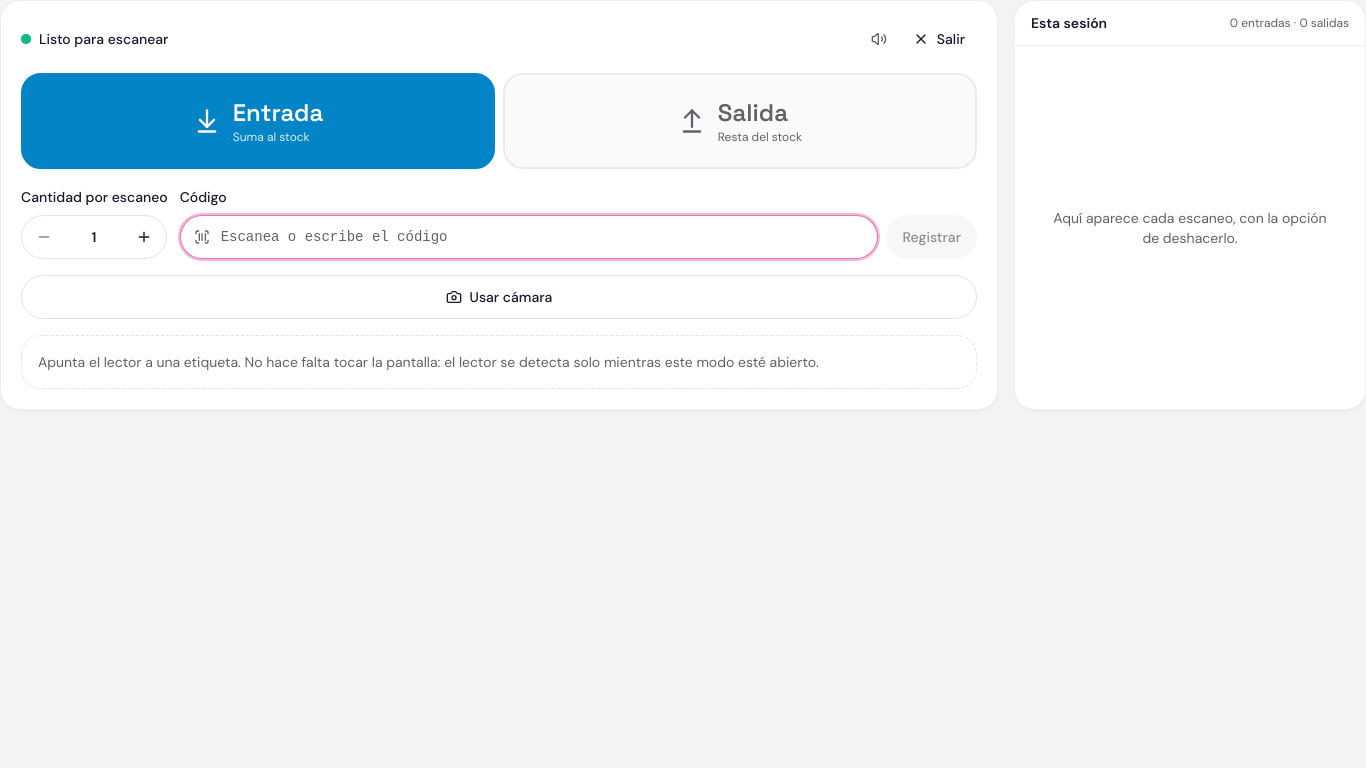
InventoryScanPanel › código desconocido → ligar a un artículo y registrar el movimiento pendiente
In the field labelled "Código": (529, 237) [180,215,878,259], type "7501234567890"
Then press Enter
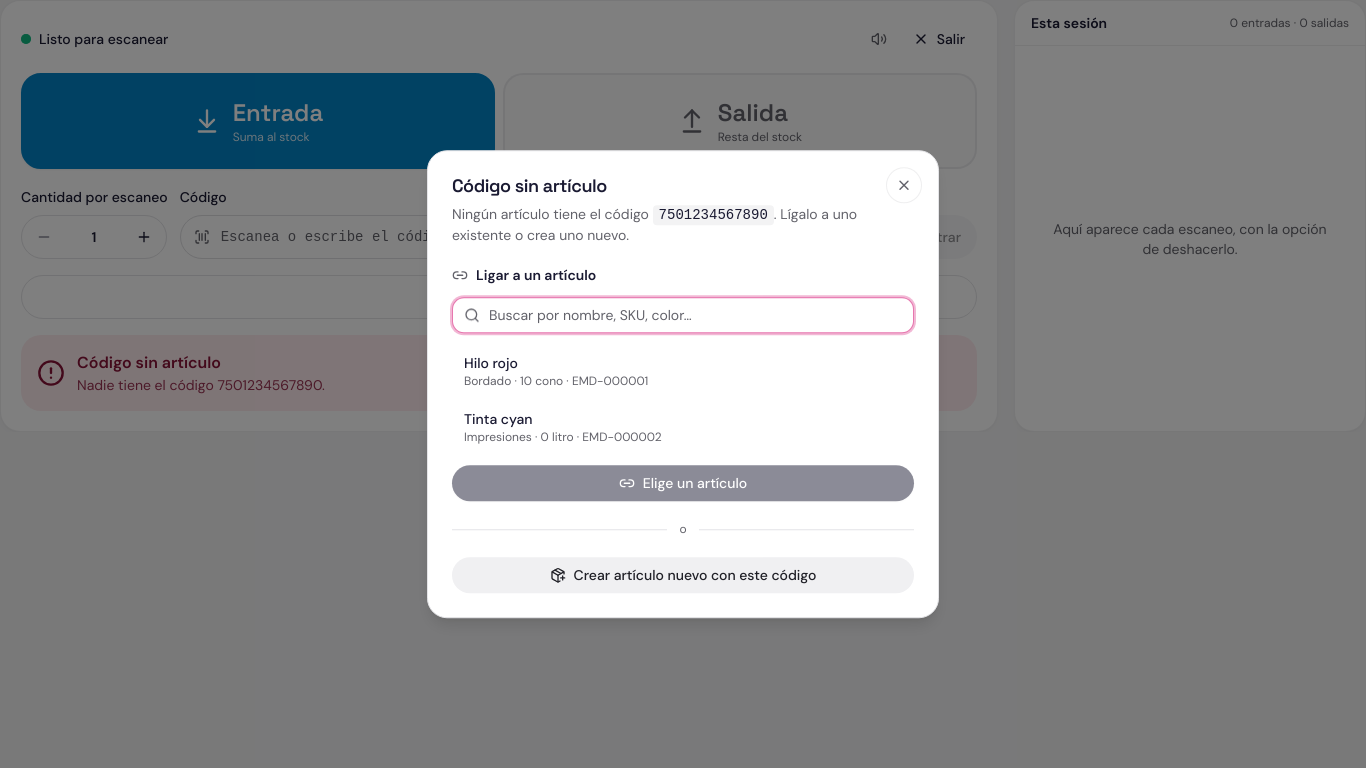
Check: the heading "Código sin artículo" is shown, box [452,174,607,197]
In the field named "Buscar artículo para ligar": (683, 315) [452,297,914,333], type "tinta"
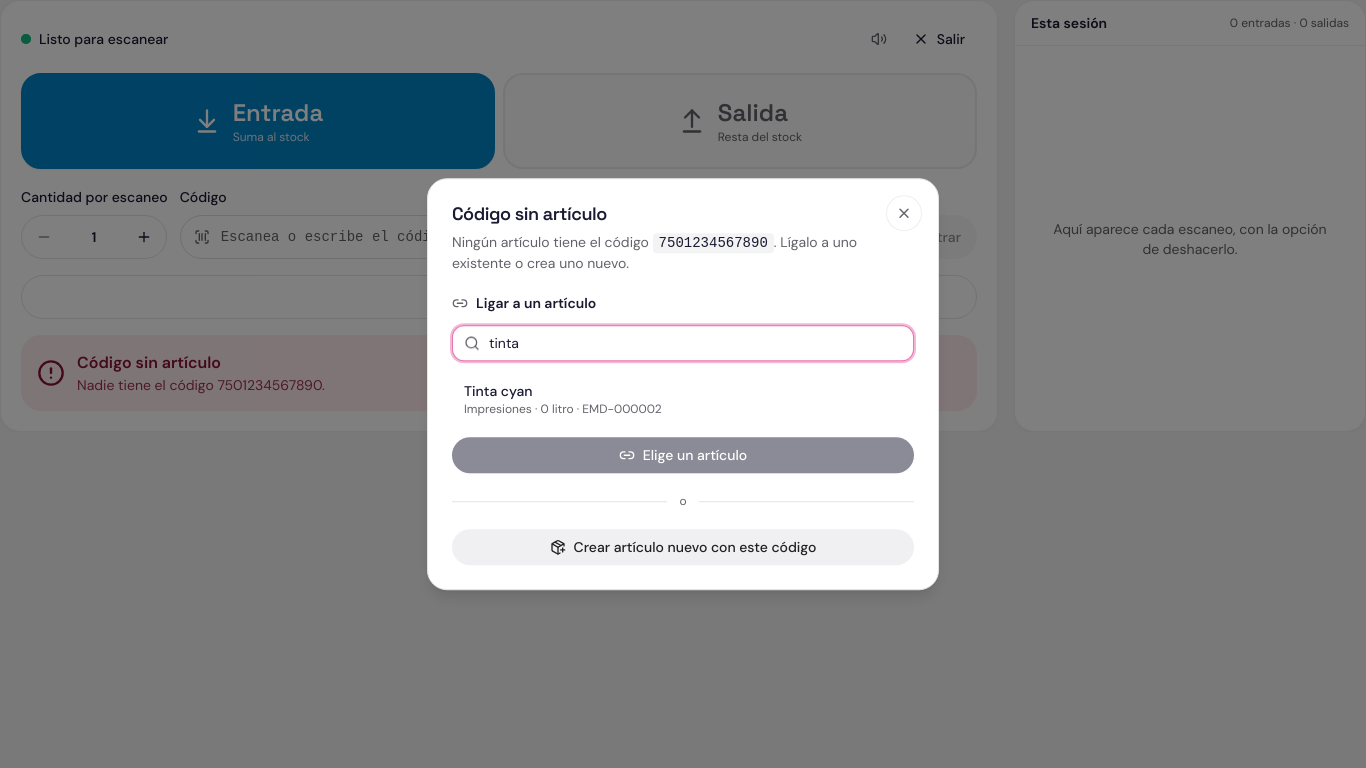
Click the button "Tinta cyan Impresiones · 0 litro · EMD-000002": (498, 391) [452,373,914,425]
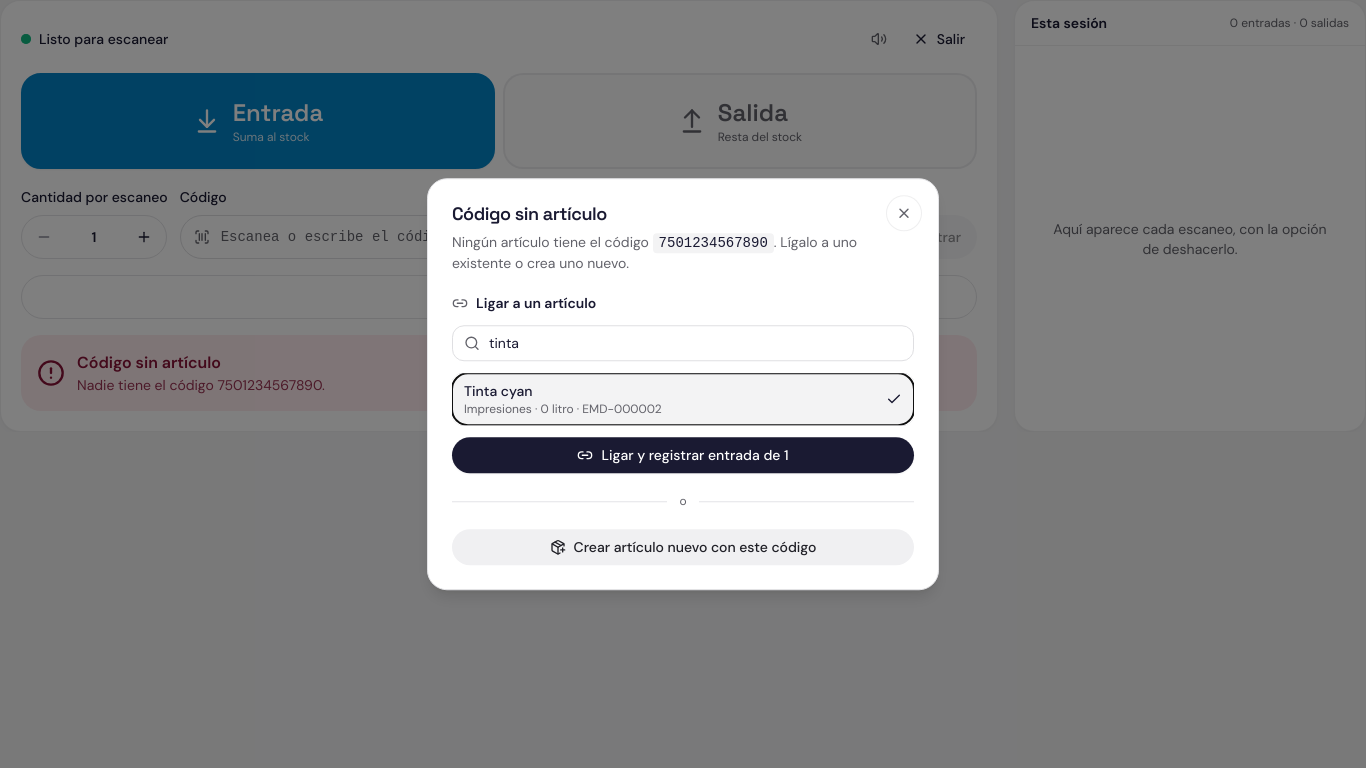
Click the button "Ligar y registrar entrada de 1": (683, 455) [452,437,914,473]
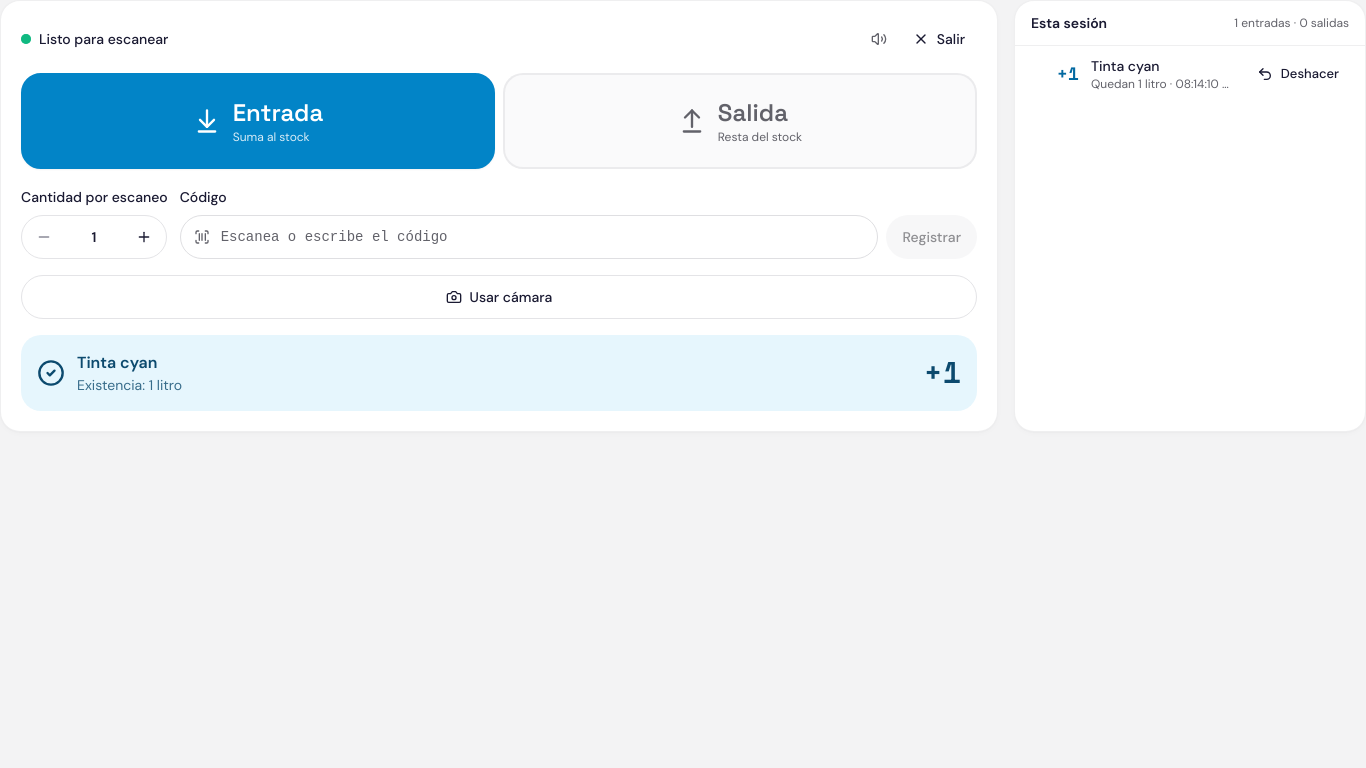
Check: the dialog is gone
Check: the list item with test id "scan-log-entry" shows "Tinta cyan", box [1091,57,1160,75]
